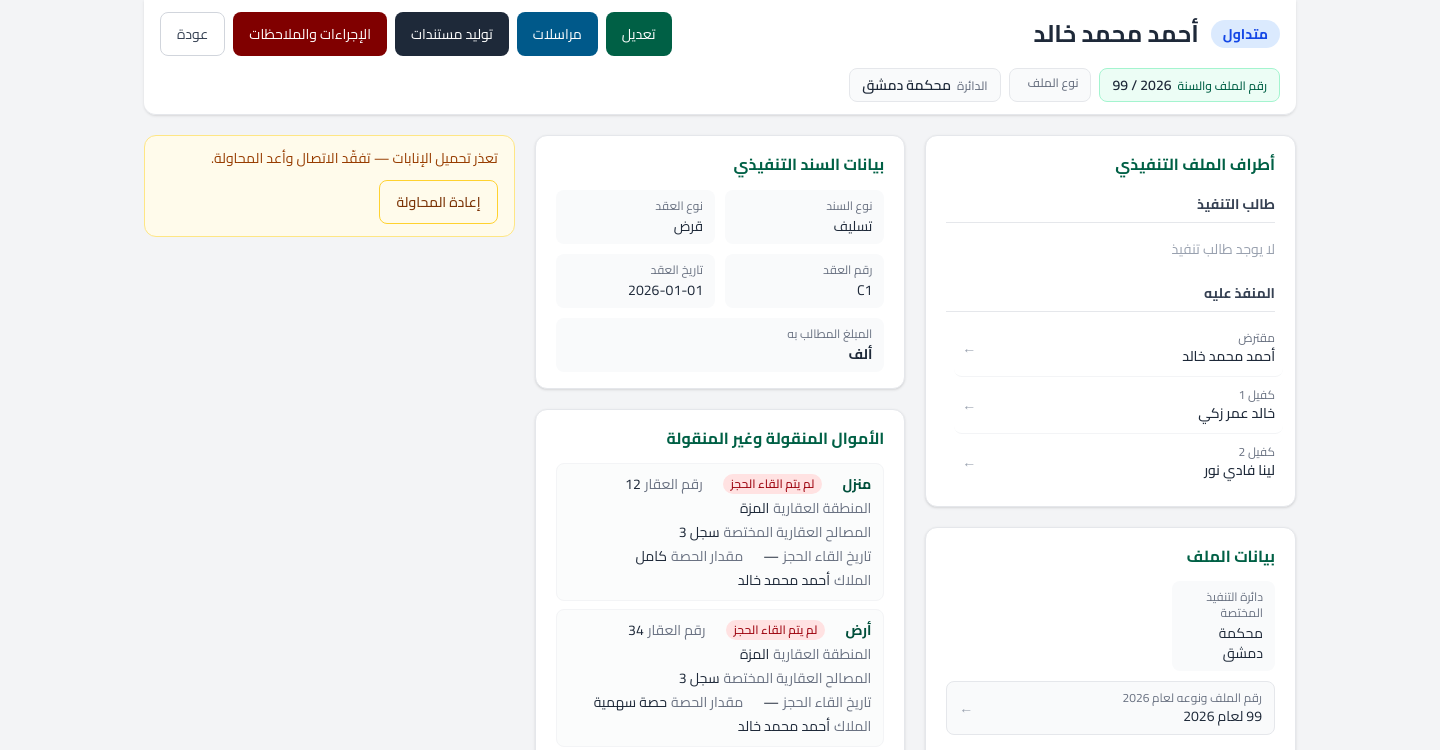
Test: DocumentView › يعرض شريط خطأ محصورًا عند فشل جلب الإنابات مع إعادة محاولة ناجحة
The image size is (1440, 750).
Expected: the message shows "تعذر تحميل الإنابات", [211,145,498,171]
Click the button "إعادة المحاولة" at (439, 202), box [379,180,498,224]
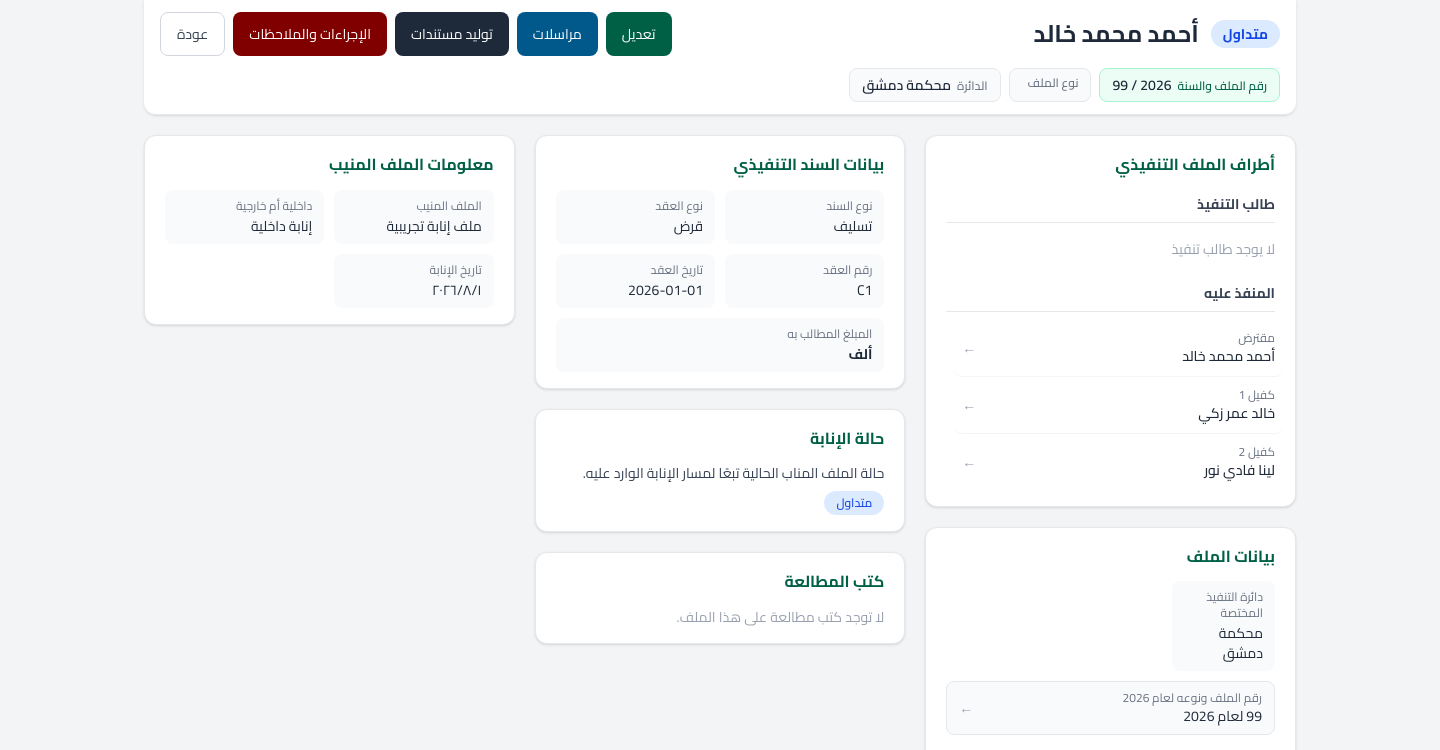
Now the text "ملف إنابة تجريبية" is shown, box [386,213,482,239]
Now the message "تعذر تحميل الإنابات — تفقّد الاتصال وأعد المحاولة. إعادة المحاولة" is gone
